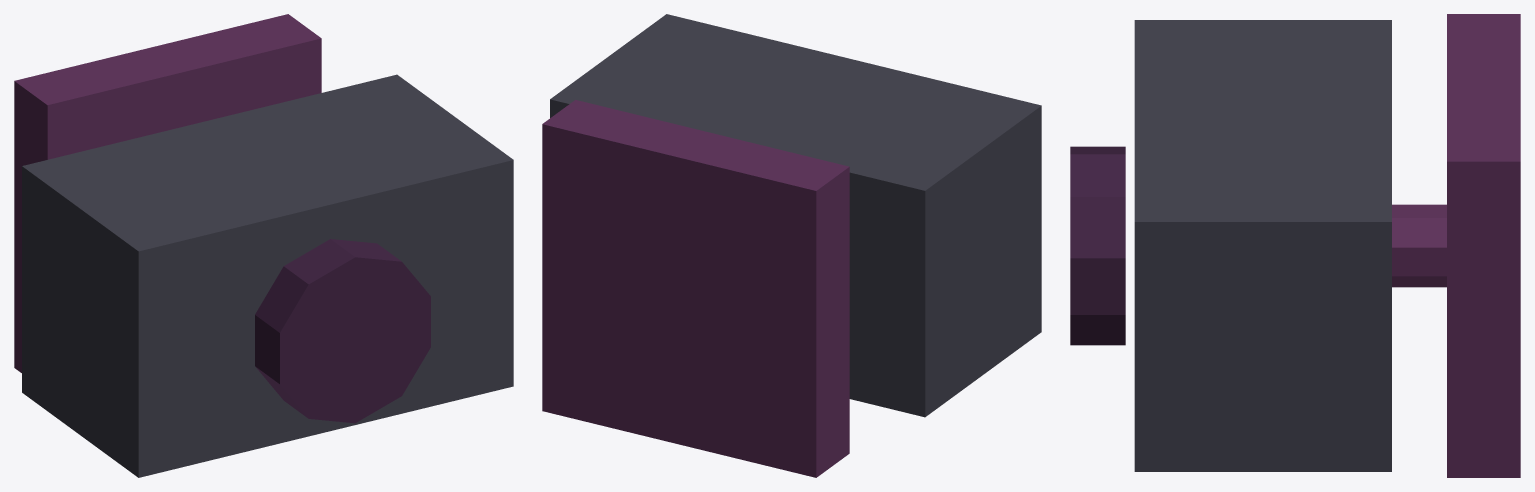
Rendered from cctv-camera.obj.
The picture shows the model from 3 angles, left to right: view 1: azimuth 30°, elevation 25°; view 2: azimuth 150°, elevation 25°; view 3: azimuth 270°, elevation 25°; orthographic projection. The views are drawn at different scales.
Parts seen in each view (by area): view 1: wall-camera-body, wall-mount-plate, camera-lens; view 2: wall-mount-plate, wall-camera-body; view 3: wall-camera-body, wall-mount-plate, camera-lens, stubby-mount-arm.
Part boxes in pixels (x1=…): wall-camera-body: x1=22, y1=74, x2=513, y2=477; wall-mount-plate: x1=14, y1=14, x2=321, y2=372; camera-lens: x1=255, y1=239, x2=430, y2=423; wall-mount-plate: x1=542, y1=100, x2=849, y2=477; wall-camera-body: x1=550, y1=14, x2=1041, y2=417; wall-camera-body: x1=1134, y1=20, x2=1391, y2=471; wall-mount-plate: x1=1447, y1=14, x2=1520, y2=477; camera-lens: x1=1070, y1=146, x2=1125, y2=345; stubby-mount-arm: x1=1392, y1=204, x2=1446, y2=287.
Bounding box in the file's own units: 0.52 × 0.38 × 0.49.
